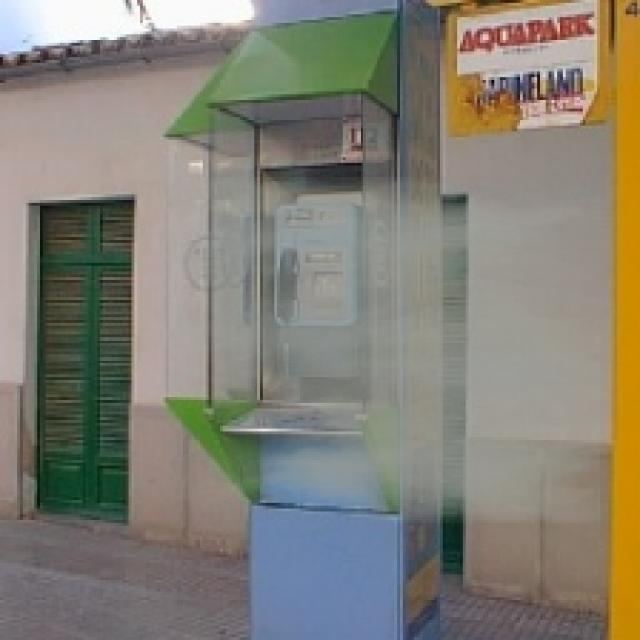Smoke: (197, 177, 606, 523)
